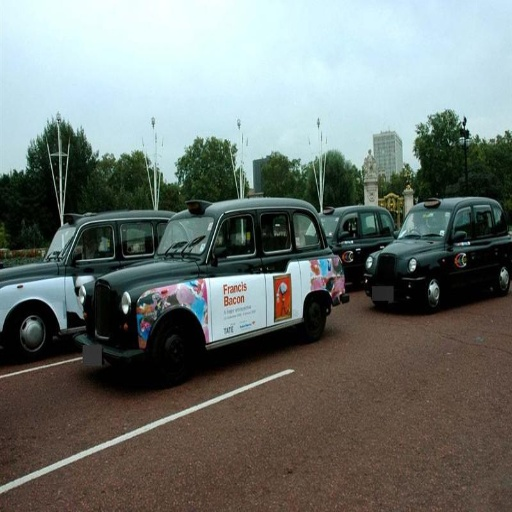trunk: (124, 269, 197, 339)
